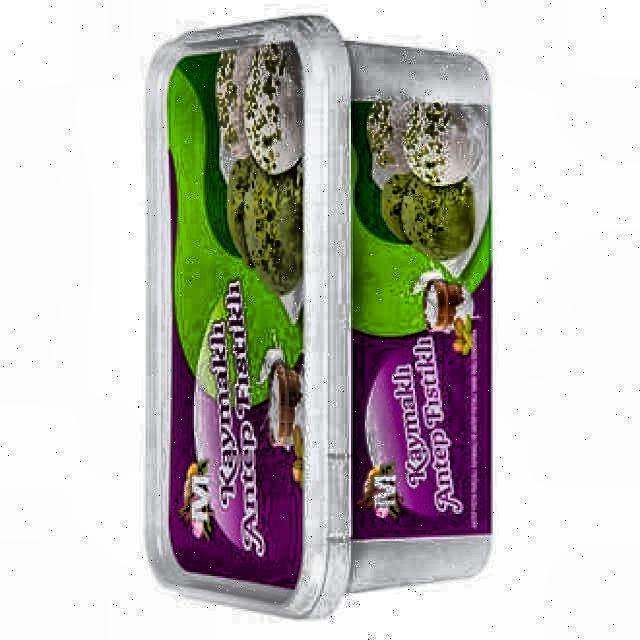plastic: (148, 16, 490, 616)
